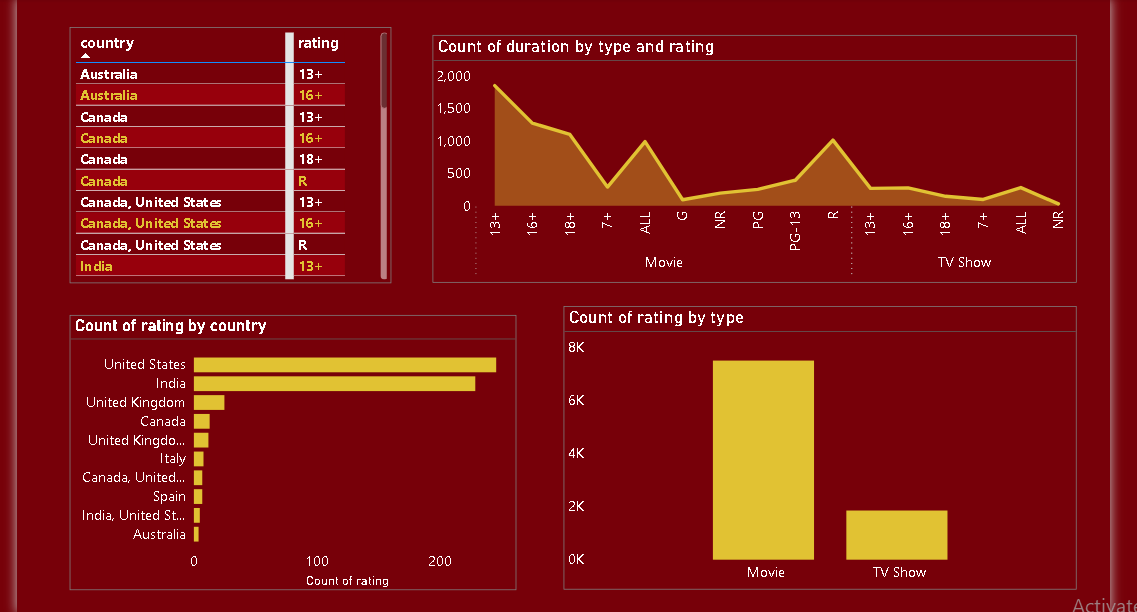

This screenshot's page, from the dashboard's own definition file:
{"tool":"powerbi","page":{"name":"Page 2","canvas":[1280,720],"ordinal":1},"visuals":[{"type":"tableEx","fields":{"Values":["amazon_prime_titles.country","amazon_prime_titles.rating"]},"box":[61.8,34.2,377.2,299.7],"z":0},{"type":"clusteredBarChart","fields":{"Category":["amazon_prime_titles.country"],"Y":["CountNonNull(amazon_prime_titles.rating)"]},"box":[0,370.6,523.5,322.1],"z":1000},{"type":"lineClusteredColumnComboChart","fields":{"Category":["amazon_prime_titles.type"],"Y":["CountNonNull(amazon_prime_titles.rating)"]},"box":[640.1,360.1,600.6,332.5],"z":2001},{"type":"areaChart","fields":{"Category":["amazon_prime_titles.type","amazon_prime_titles.rating"],"Y":["CountNonNull(amazon_prime_titles.duration)"]},"box":[486.3,43.4,754.4,290.5],"z":2002}]}

Visuals, with their boxes on the page's 1280x720 design canvas (x1, y1, x2, y2). These are canvas units, not pixel positions in the 1137x612 screenshot, which may show the page scaled, cropped or inside an application window:
tableEx - amazon_prime_titles.country x amazon_prime_titles.rating: <bbox>62, 34, 439, 334</bbox>
clusteredBarChart - amazon_prime_titles.country x CountNonNull(amazon_prime_titles.rating): <bbox>0, 371, 524, 693</bbox>
lineClusteredColumnComboChart - amazon_prime_titles.type x CountNonNull(amazon_prime_titles.rating): <bbox>640, 360, 1241, 693</bbox>
areaChart - amazon_prime_titles.type x amazon_prime_titles.rating: <bbox>486, 43, 1241, 334</bbox>
